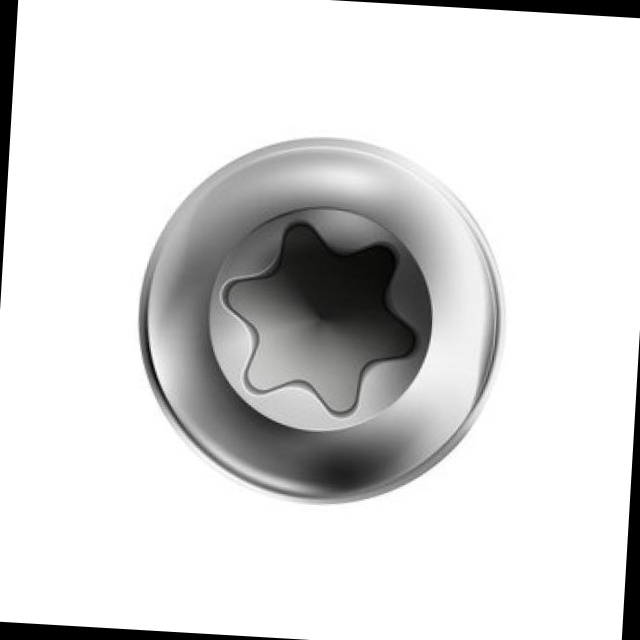torx: (128, 127, 515, 518)
